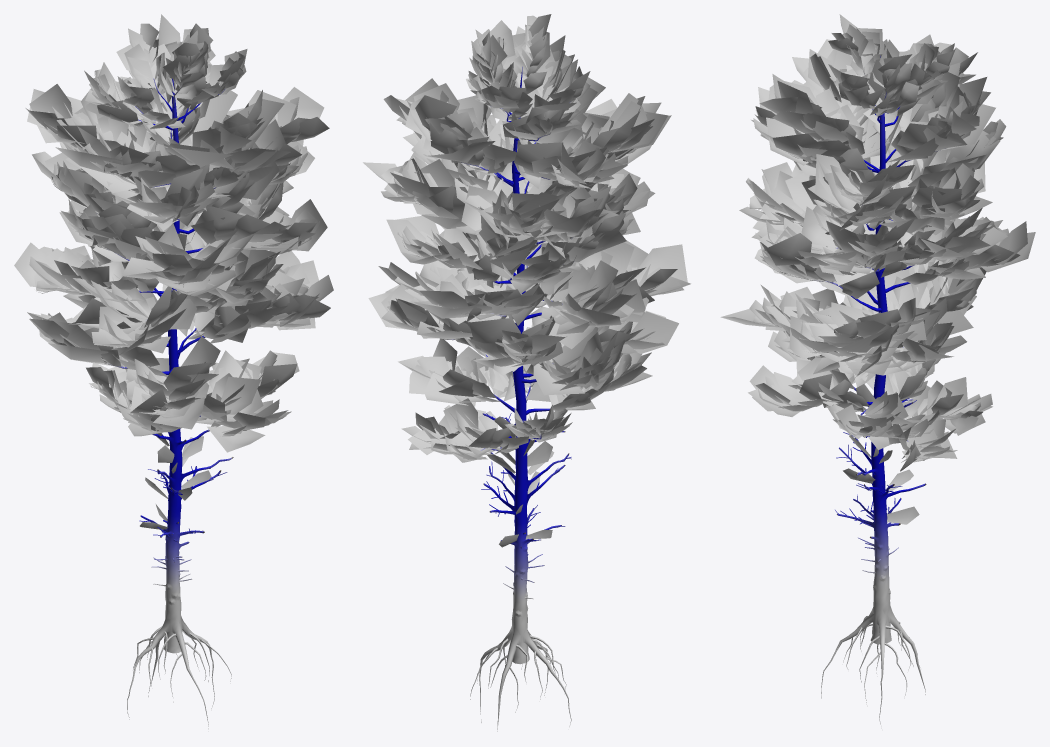
File: Pine_02_LOD0.fbx
The picture shows the model from 3 angles, left to right: view 1: azimuth 30°, elevation 25°; view 2: azimuth 150°, elevation 25°; view 3: azimuth 270°, elevation 25°; orthographic projection.
Parts seen in each view (by area): view 1: polySurface2937; view 2: polySurface2937; view 3: polySurface2937.
Boxes of the visible parts, x1,y1,x2,y2 form: polySurface2937: (14,14,333,728); polySurface2937: (363,14,690,731); polySurface2937: (720,14,1035,724).
Size of the model in its own units: 1163 by 2859 by 1175.
